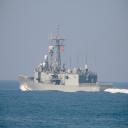Fragata: (16, 18, 116, 95)
